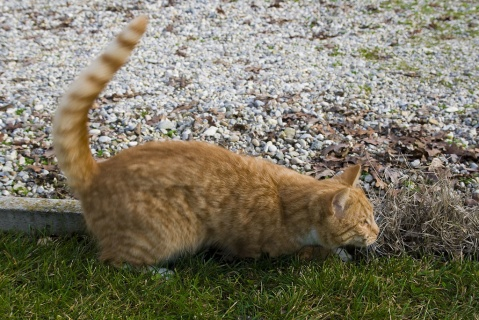Cat: (50, 10, 381, 278)
